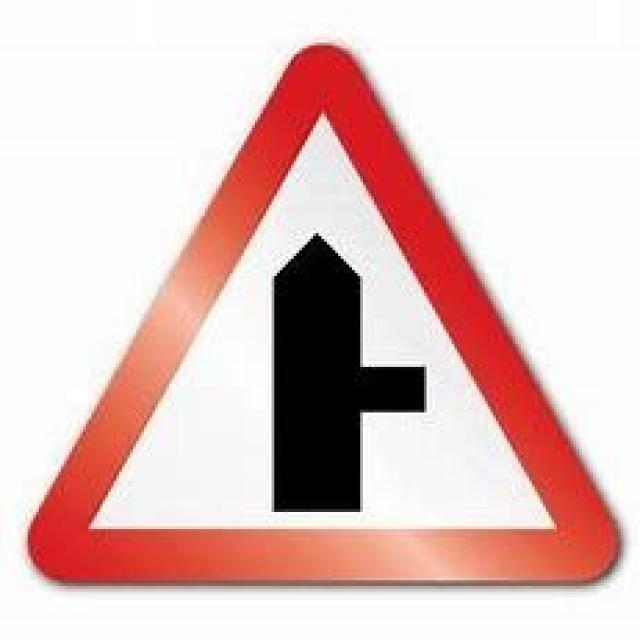SIDE_ROAD_RIGHT: (23, 34, 628, 593)
